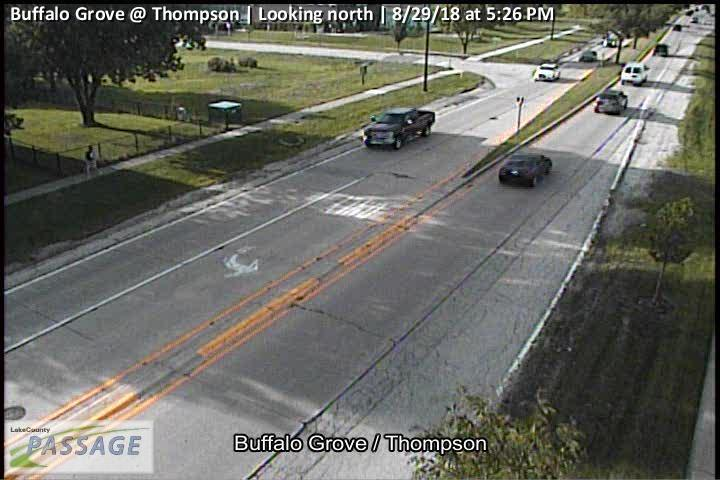SUV: (619, 60, 650, 85)
Sedan: (497, 151, 553, 187), (593, 89, 628, 114), (532, 62, 561, 80)
Truck: (363, 107, 436, 150)
